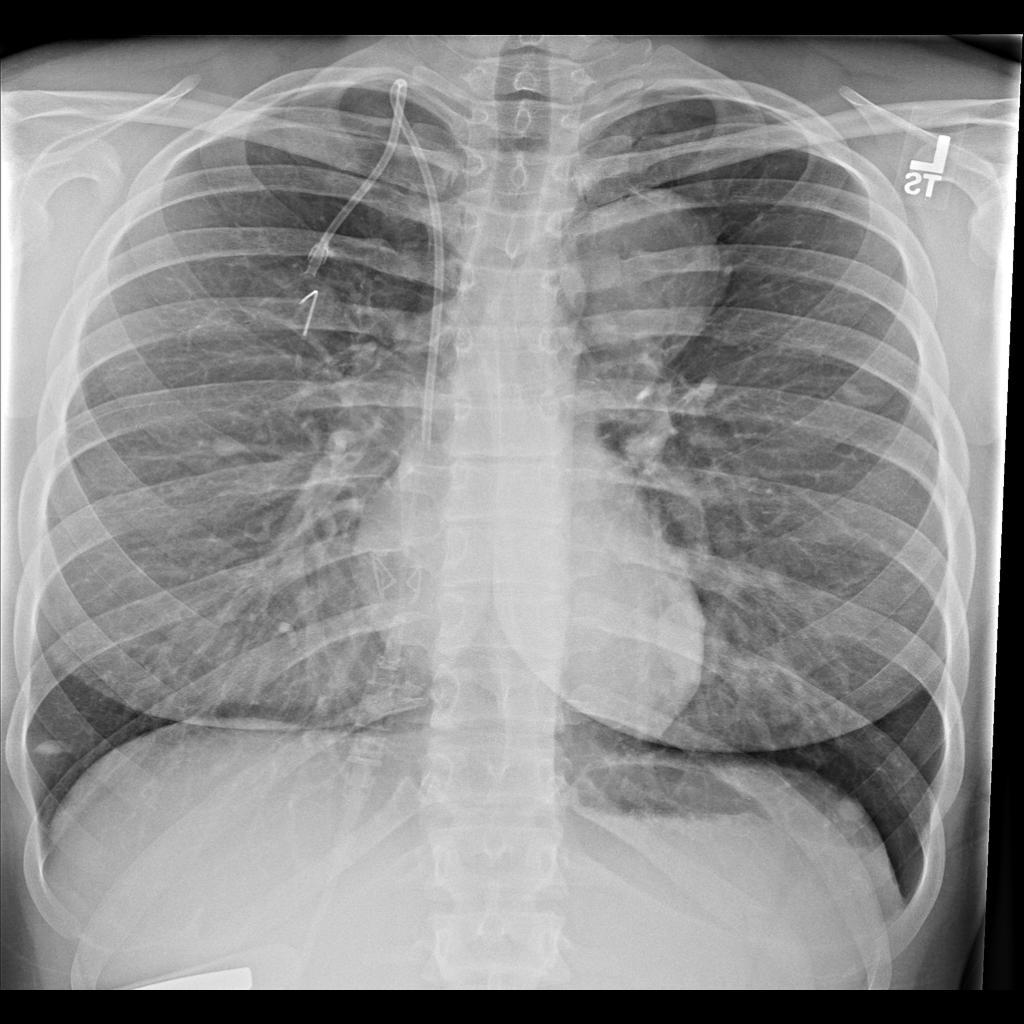Nodule: (246, 256, 347, 340), (201, 423, 248, 467), (35, 736, 75, 767)
